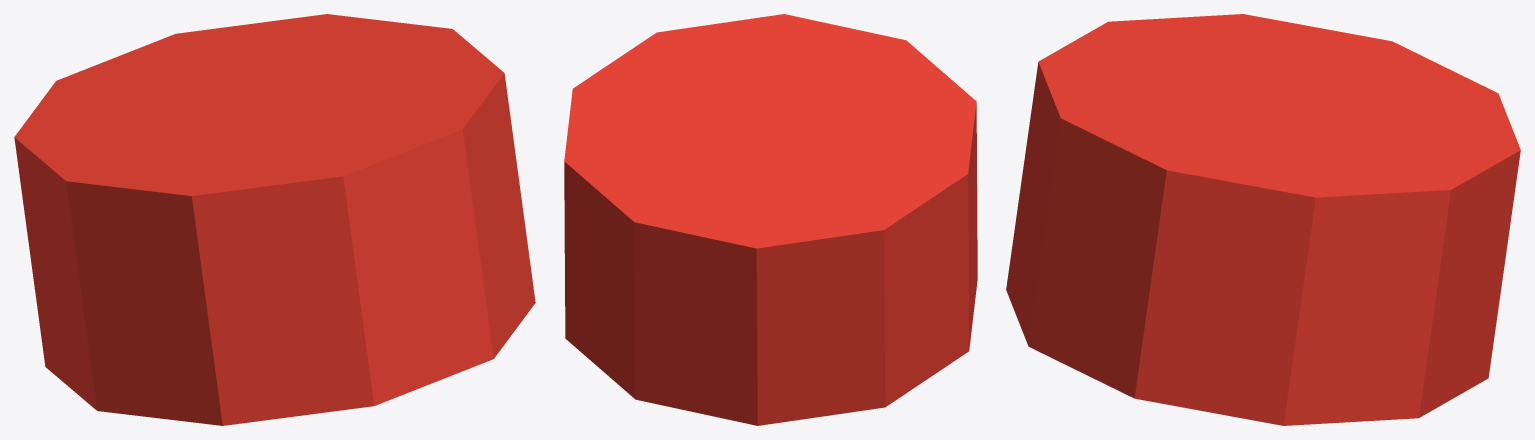
The model's file is group44135111_lev3.002.glb.
3 views of the same model, side by side, from view 1: azimuth 30°, elevation 25°; view 2: azimuth 150°, elevation 25°; view 3: azimuth 270°, elevation 25° (orthographic). The views are drawn at different scales.
Visible parts, largest first — view 1: group44135111_lev3.002; view 2: group44135111_lev3.002; view 3: group44135111_lev3.002.
Boxes of the visible parts, box(x1,y1,x2,y2) form: group44135111_lev3.002: box(14, 14, 535, 425); group44135111_lev3.002: box(564, 14, 977, 425); group44135111_lev3.002: box(1006, 14, 1520, 425).
Bounding box in the file's own units: 0.5619 × 0.3531 × 0.5733.
